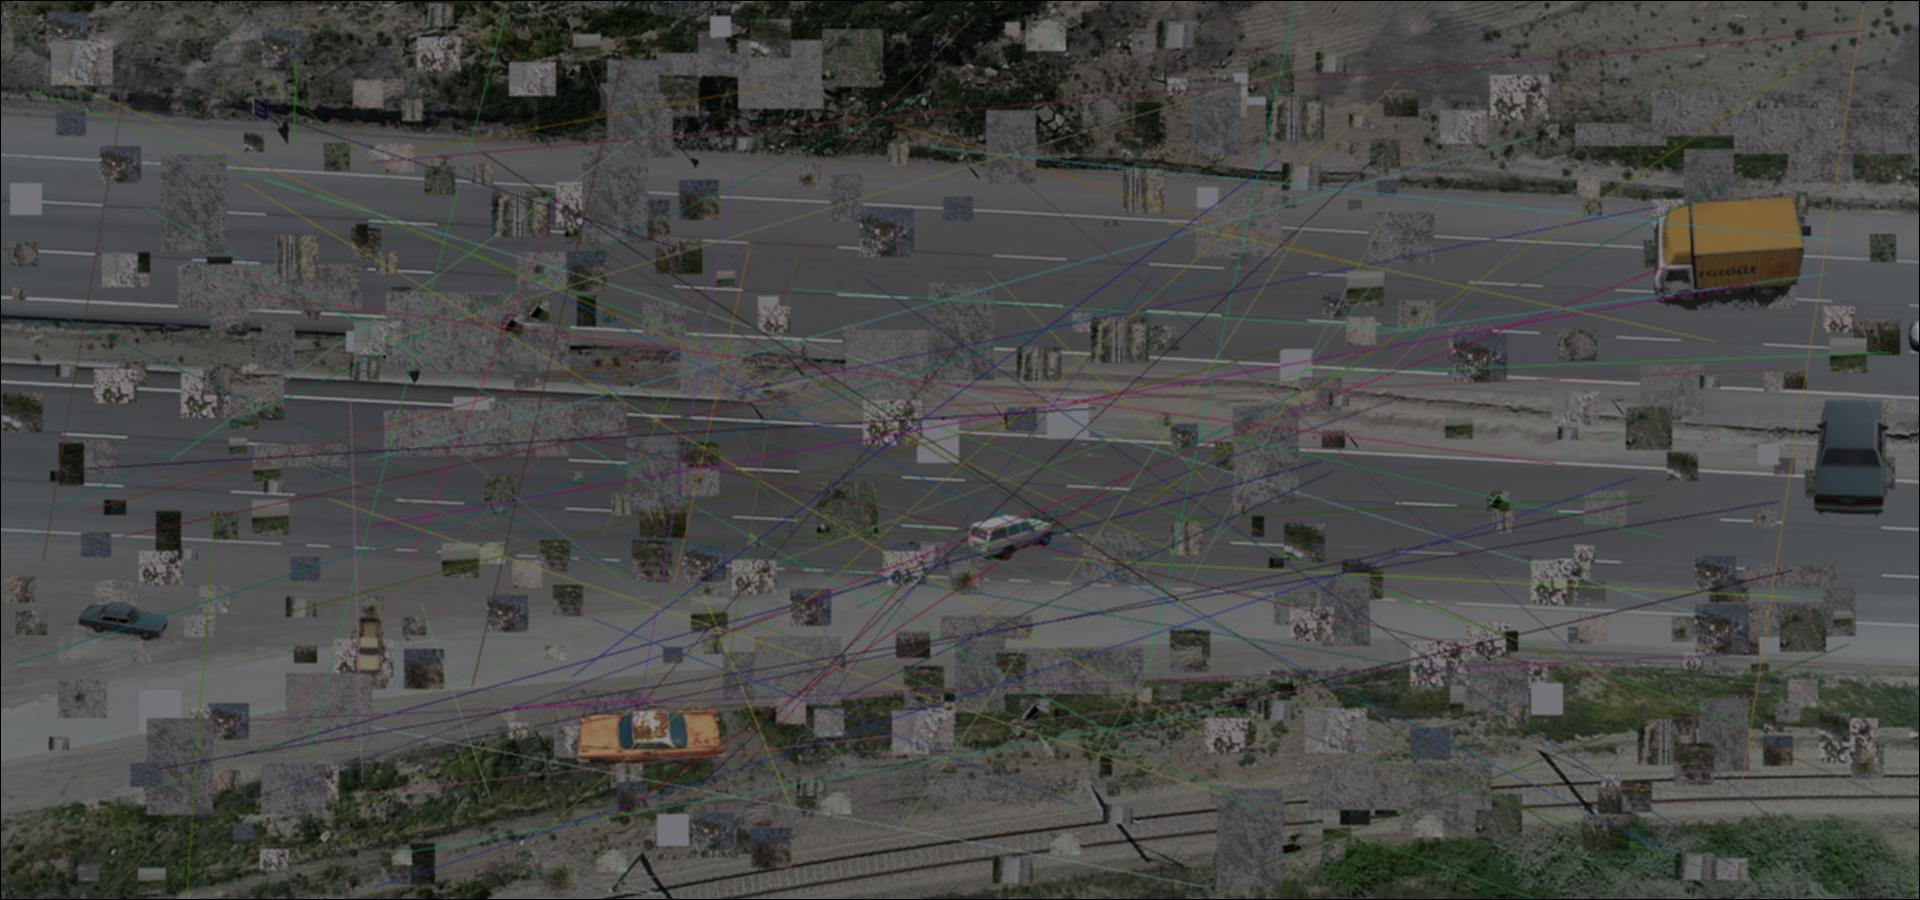arac: (1649, 196, 1804, 310), (571, 707, 744, 767), (1807, 400, 1893, 517), (966, 514, 1056, 561), (80, 602, 170, 640), (351, 613, 384, 675)
